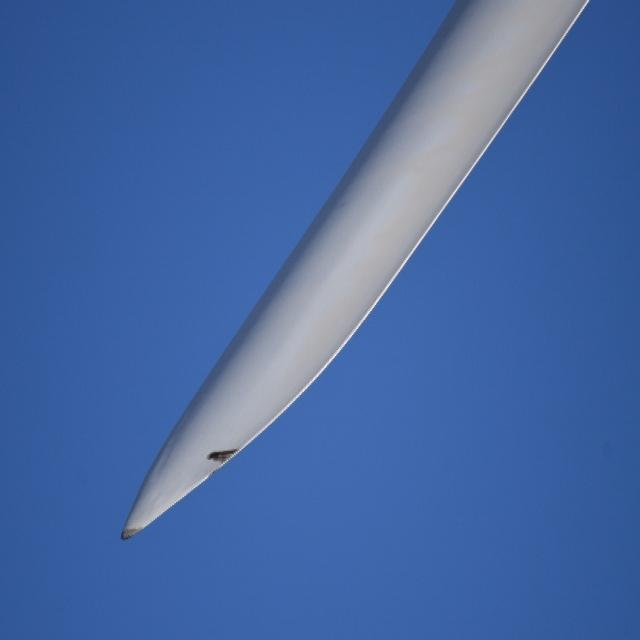Burn Mark: (205, 446, 238, 464)
